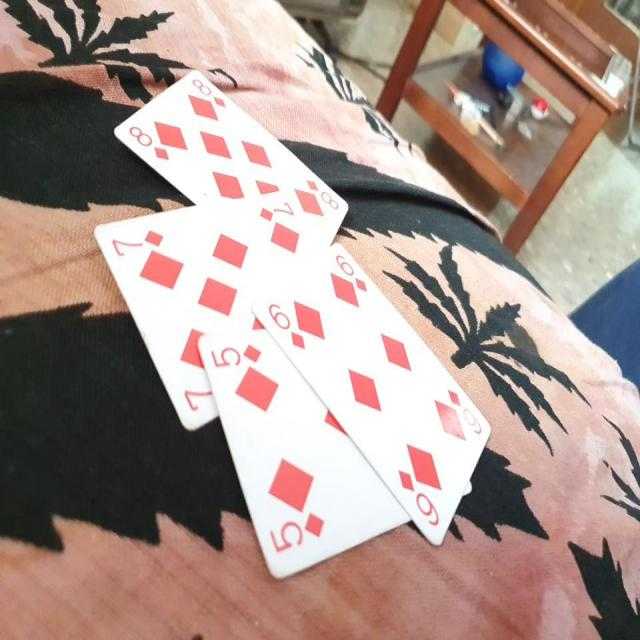5 Diamonds: (200, 335, 417, 584)
6 Diamonds: (250, 239, 488, 546)
7 Diamonds: (92, 185, 309, 432)
8 Diamonds: (110, 66, 349, 245)
